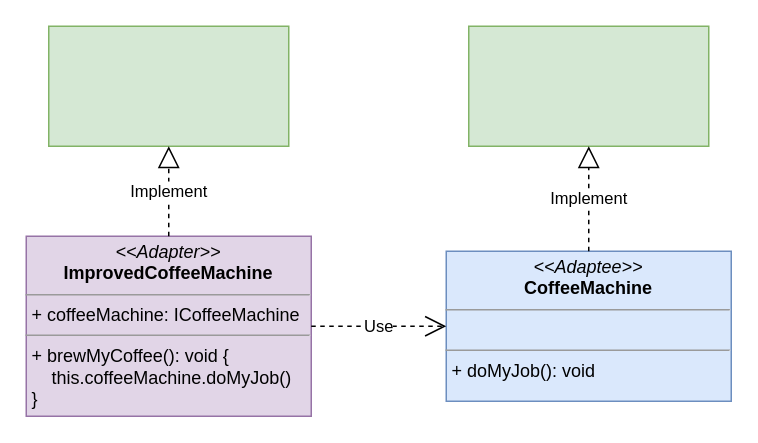
Some shapes in this 758 by 443 pixel diagram are drawn without their labels. The box of each missing label's shape, as (x1, y1, x2, y2) in pixels:
<<Interface>> ICoffeeMachine + doMyJob(): void: (467, 25, 709, 146)
<<Interface>> IIMprovedCoffeeMachine + brewMyCoffee(): void: (47, 25, 289, 146)
